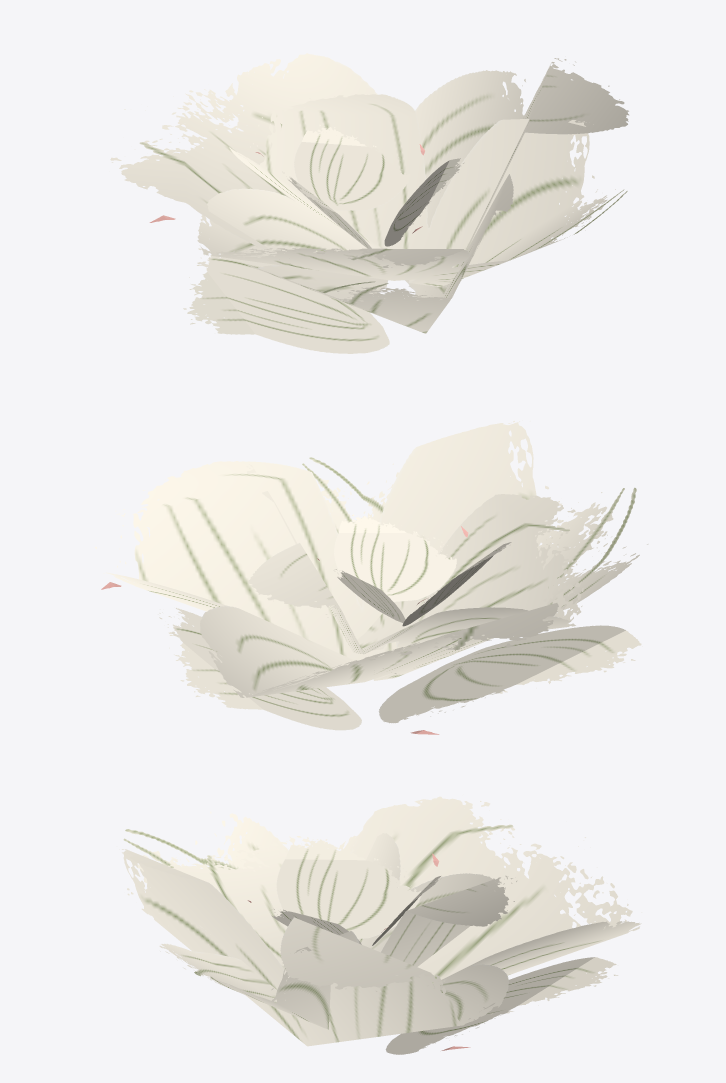
File: white_hydrangea.fbx
3 views of the same model, one above another, from view 1: azimuth 30°, elevation 25°; view 2: azimuth 150°, elevation 25°; view 3: azimuth 270°, elevation 25° (orthographic). The views are drawn at different scales.
Parts seen in each view (by area): view 1: white_hydrangea; view 2: white_hydrangea; view 3: white_hydrangea.
Part boxes in pixels (<box>): white_hydrangea: <box>110,53,629,353</box>; white_hydrangea: <box>95,420,648,734</box>; white_hydrangea: <box>119,796,641,1054</box>.
Bounding box in the file's own units: 0.5764 × 0.1935 × 0.6359.
Materials: 1 (1 with a texture image).
